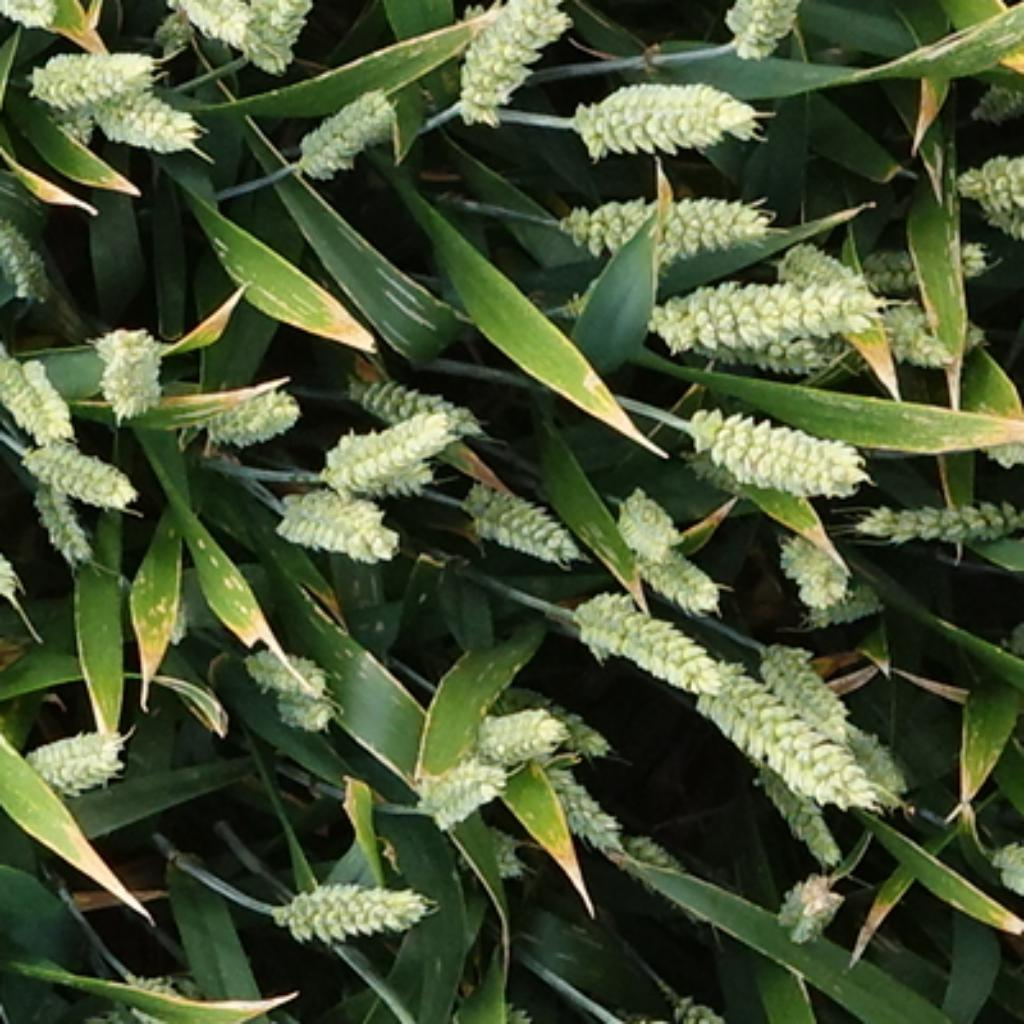0-0: (683, 647, 883, 826), (673, 391, 878, 496), (435, 0, 578, 130), (565, 68, 764, 160), (647, 281, 890, 350), (565, 583, 724, 686), (555, 184, 773, 258), (314, 396, 465, 491), (273, 872, 440, 947), (56, 64, 204, 148), (286, 89, 401, 189), (23, 35, 163, 115), (535, 750, 634, 862), (460, 478, 583, 568), (271, 486, 401, 565), (860, 483, 1024, 545), (750, 760, 842, 865), (345, 373, 494, 437), (755, 634, 852, 732), (20, 427, 138, 504), (17, 721, 128, 801), (87, 322, 174, 422), (857, 235, 998, 296), (481, 688, 609, 755), (624, 517, 721, 604), (688, 332, 865, 378), (619, 834, 709, 924), (409, 757, 509, 837), (194, 373, 302, 445), (158, 0, 266, 71), (886, 301, 997, 370), (231, 0, 326, 74), (0, 343, 74, 437), (235, 640, 343, 704), (775, 519, 857, 601), (609, 481, 683, 565), (775, 243, 872, 307), (715, 0, 820, 58), (770, 867, 849, 944), (320, 450, 437, 499), (468, 706, 573, 760), (25, 483, 94, 565), (834, 719, 908, 793), (0, 215, 58, 307), (455, 821, 529, 885), (563, 294, 675, 335), (954, 143, 1021, 207), (112, 977, 199, 1024), (977, 823, 1024, 908), (806, 573, 883, 622), (970, 407, 1024, 473), (271, 691, 340, 737), (969, 77, 1023, 126), (981, 194, 1024, 245), (0, 0, 66, 30), (56, 102, 97, 148)
